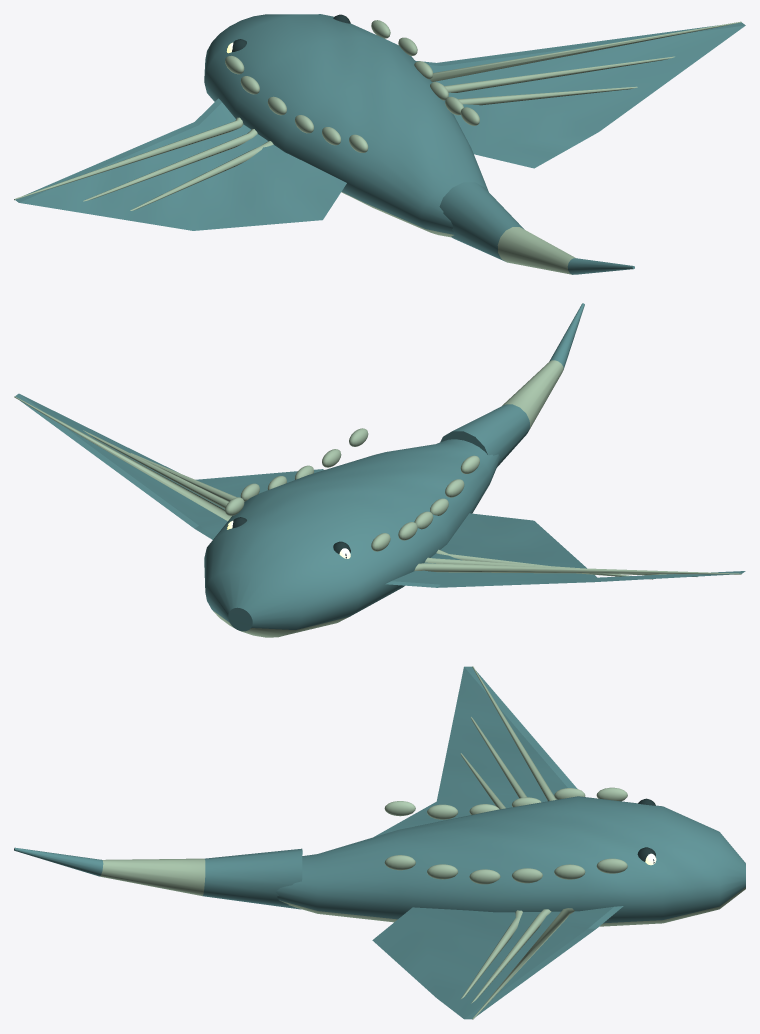
File: lake_champion.glb
3 renders of one model, top to bottom at view 1: azimuth 30°, elevation 25°; view 2: azimuth 150°, elevation 25°; view 3: azimuth 270°, elevation 25°, orthographic.
Visible parts, largest first — view 1: Body, Walk00, Walk01; view 2: Body, Walk00, Walk01; view 3: Body, Walk01, Walk00.
Part boxes in pixels (x1,y1,x2,y2): Body: (204, 14, 634, 274); Walk00: (14, 98, 346, 230); Walk01: (415, 21, 745, 168); Body: (204, 303, 584, 637); Walk00: (385, 513, 745, 587); Walk01: (14, 393, 323, 539); Body: (14, 787, 745, 926); Walk01: (372, 906, 623, 1019); Walk00: (374, 666, 577, 836).
Bounding box in the file's own units: 2.66 × 0.36 × 2.33.
2 materials, 1 textured.
